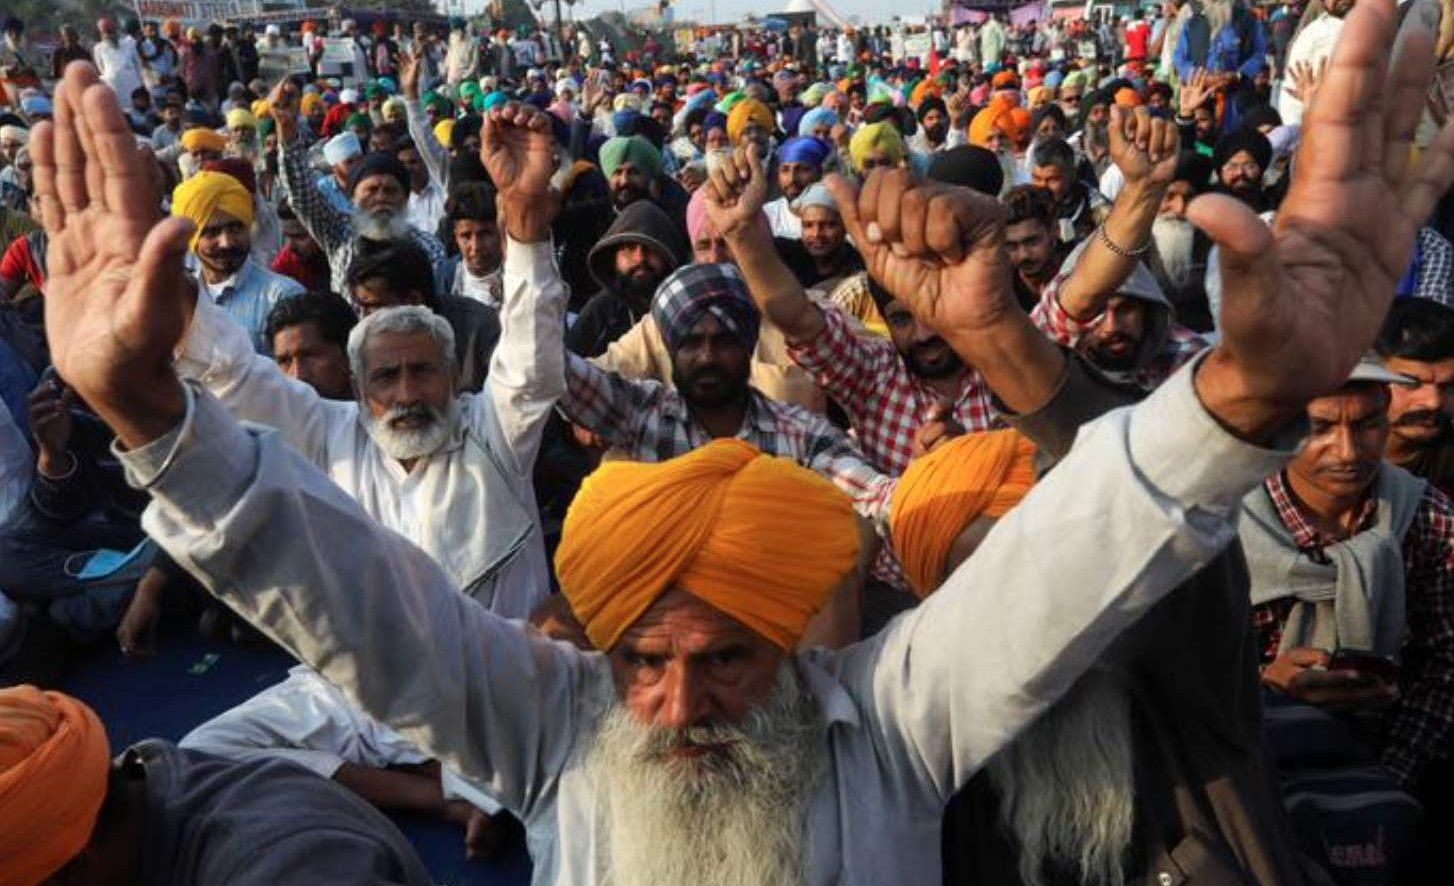human: (1, 1, 1454, 877), (75, 100, 658, 620), (517, 256, 908, 492), (1211, 342, 1454, 709), (131, 156, 319, 373), (269, 128, 478, 306), (575, 206, 728, 339), (414, 189, 550, 314), (989, 195, 1078, 295), (572, 120, 661, 200), (783, 198, 869, 270)
